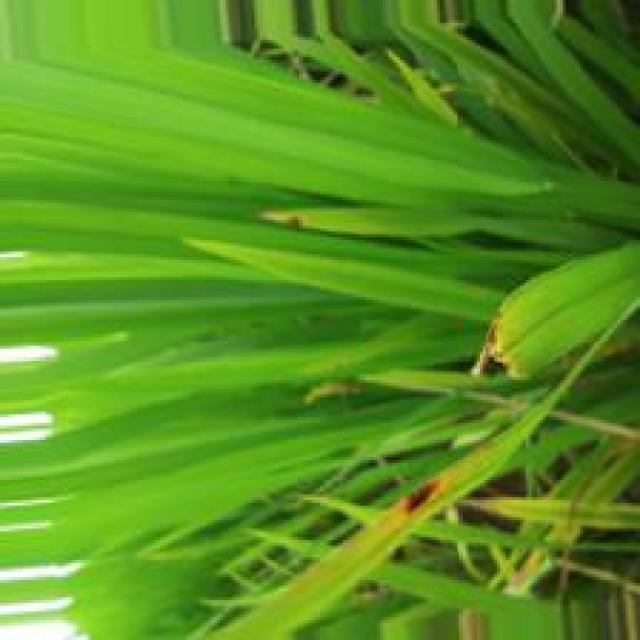Brown_Spot: (400, 476, 443, 520)
